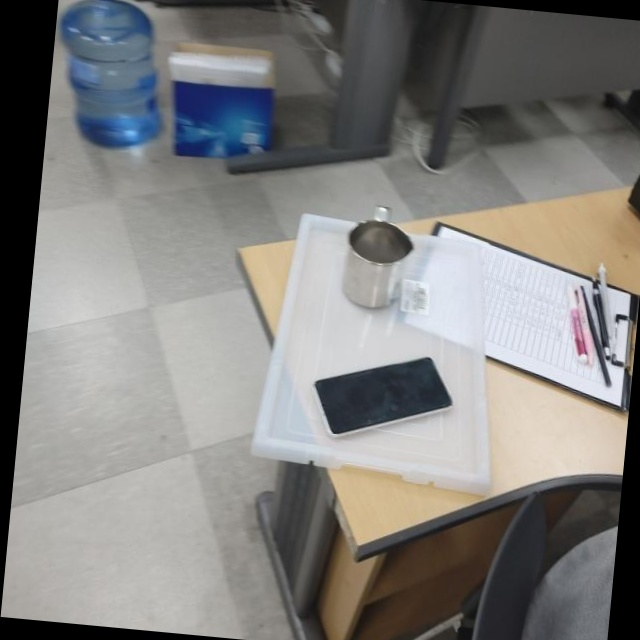cup: (337, 202, 420, 315)
phone: (308, 344, 458, 451)
